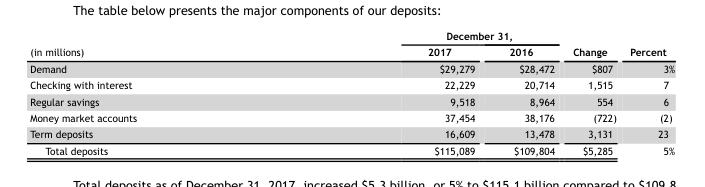table: (29, 29, 674, 156)
table column: (29, 29, 281, 156), (281, 29, 491, 156), (491, 29, 563, 156), (563, 29, 622, 156), (622, 29, 674, 156)
table column header: (29, 29, 674, 59)
table row: (29, 59, 674, 76), (29, 92, 674, 109), (29, 125, 674, 142), (29, 43, 674, 59), (29, 76, 674, 92), (29, 109, 674, 125), (29, 29, 674, 43), (29, 142, 674, 156)
table spanning cell: (29, 29, 281, 59), (281, 29, 563, 43), (563, 29, 622, 59), (622, 29, 674, 59)
